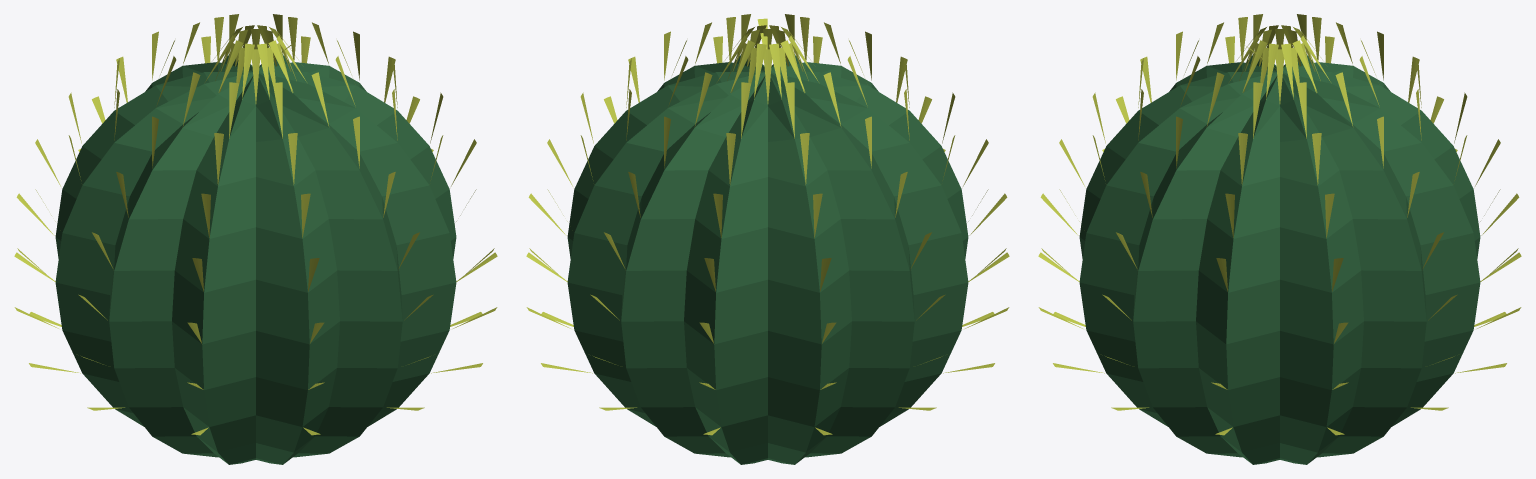
The model's file is Cactus4.fbx.
3 views of the same model, side by side, from view 1: azimuth 30°, elevation 25°; view 2: azimuth 150°, elevation 25°; view 3: azimuth 270°, elevation 25° (orthographic).
Parts seen in each view (by area): view 1: Cactus; view 2: Cactus; view 3: Cactus.
Part boxes in pixels (left/top/right/bottom): Cactus: left=14, top=14, right=497, bottom=464; Cactus: left=526, top=14, right=1009, bottom=464; Cactus: left=1038, top=14, right=1521, bottom=464.
Bounding box in the file's own units: 58.23 × 54.88 × 58.23.
